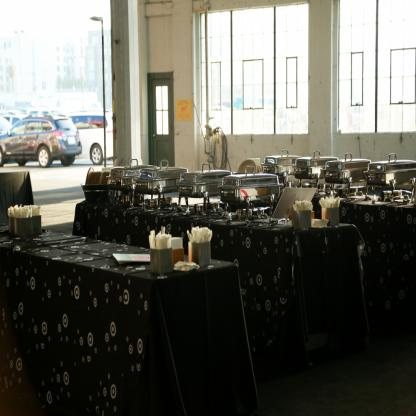Car: (0, 111, 82, 169), (86, 125, 116, 167)
